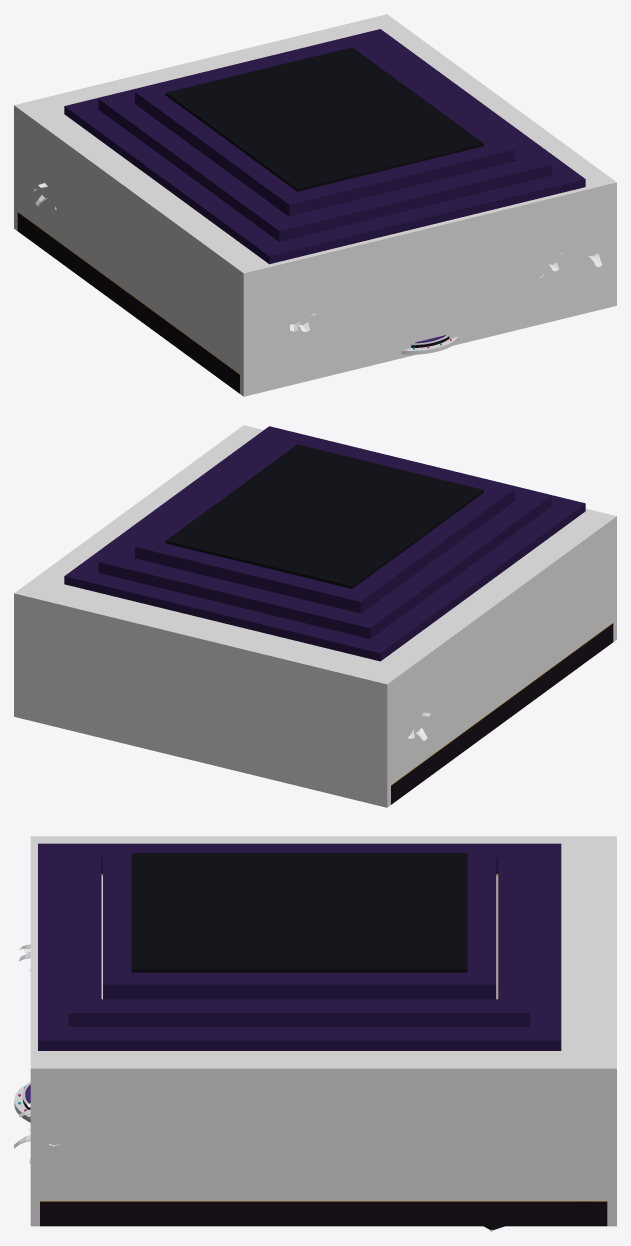
Rendered from disco.glb.
The picture shows the model from 3 angles, top to bottom: view 1: azimuth 30°, elevation 25°; view 2: azimuth 150°, elevation 25°; view 3: azimuth 270°, elevation 25°; orthographic projection. The views are drawn at different scales.
Parts seen in each view (by area): view 1: C_satin, S_tile_acoustic, C_tile_acoustic, S_gloss; view 2: C_satin, S_tile_acoustic, C_tile_acoustic, S_gloss; view 3: C_satin, S_tile_acoustic, C_tile_acoustic, S_gloss, S_metal.
Part boxes in pixels (x1=…): C_satin: x1=64, y1=29, x2=585, y2=264; S_tile_acoustic: x1=14, y1=108, x2=616, y2=396; C_tile_acoustic: x1=14, y1=14, x2=616, y2=373; S_gloss: x1=17, y1=212, x2=449, y2=393; C_satin: x1=64, y1=426, x2=585, y2=661; S_tile_acoustic: x1=14, y1=519, x2=616, y2=807; C_tile_acoustic: x1=14, y1=425, x2=616, y2=784; S_gloss: x1=391, y1=623, x2=613, y2=804; C_satin: x1=38, y1=843, x2=561, y2=1050; S_tile_acoustic: x1=30, y1=1072, x2=616, y2=1226; C_tile_acoustic: x1=30, y1=836, x2=616, y2=1072; S_gloss: x1=23, y1=1100, x2=607, y2=1226; S_metal: x1=22, y1=1083, x2=607, y2=1231.
Bounding box in the file's own units: 29.58 × 12.62 × 31.59.
